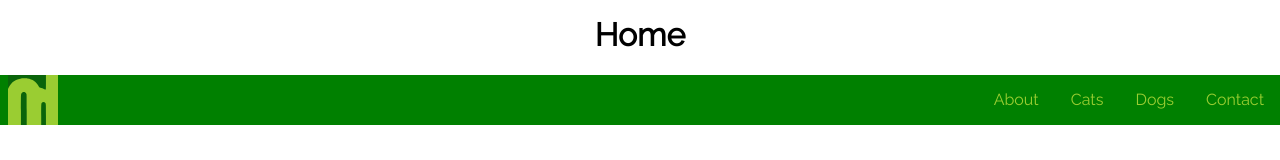
it: App navigation › clicking on the dogs link should go to the dogs page
Click the link "Dogs".
click(1155, 100)  # box [1136,90,1174,109]
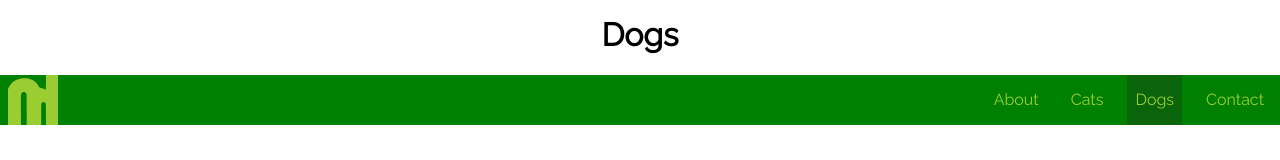
Check: the heading "Dogs" is shown, box [601,16,679,53]
